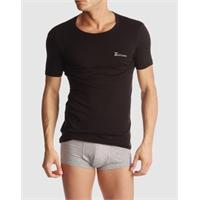abbigliamento: (44, 11, 151, 150)
mutande: (60, 139, 130, 170)
